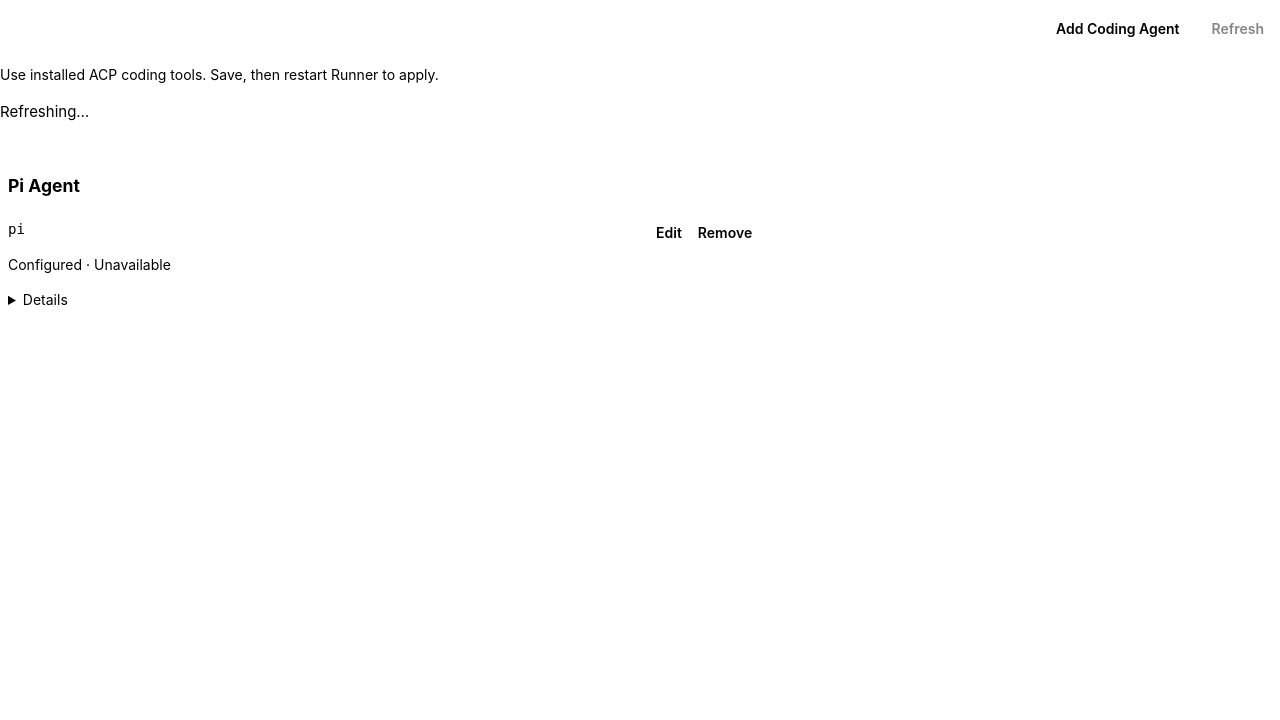
Test: Desktop Coding Agents › fails ownership conflicts without echoing backend secrets and never auto retries
The width and height of the screenshot is (1280, 720).
Click the button with aria-label "Edit Pi Agent".
click(669, 233)  # box 640,212 -> 698,254
(page scrolled)
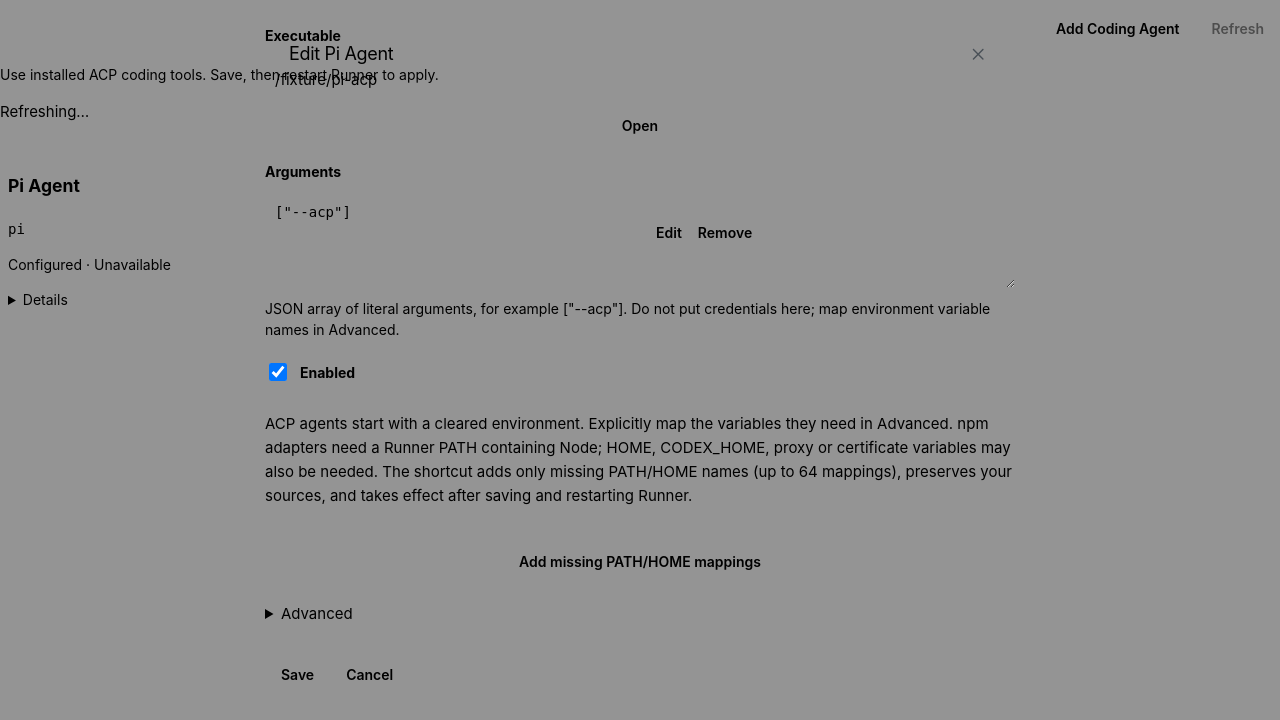
Click the button "Save".
click(298, 675)  # box 265,654 -> 330,696
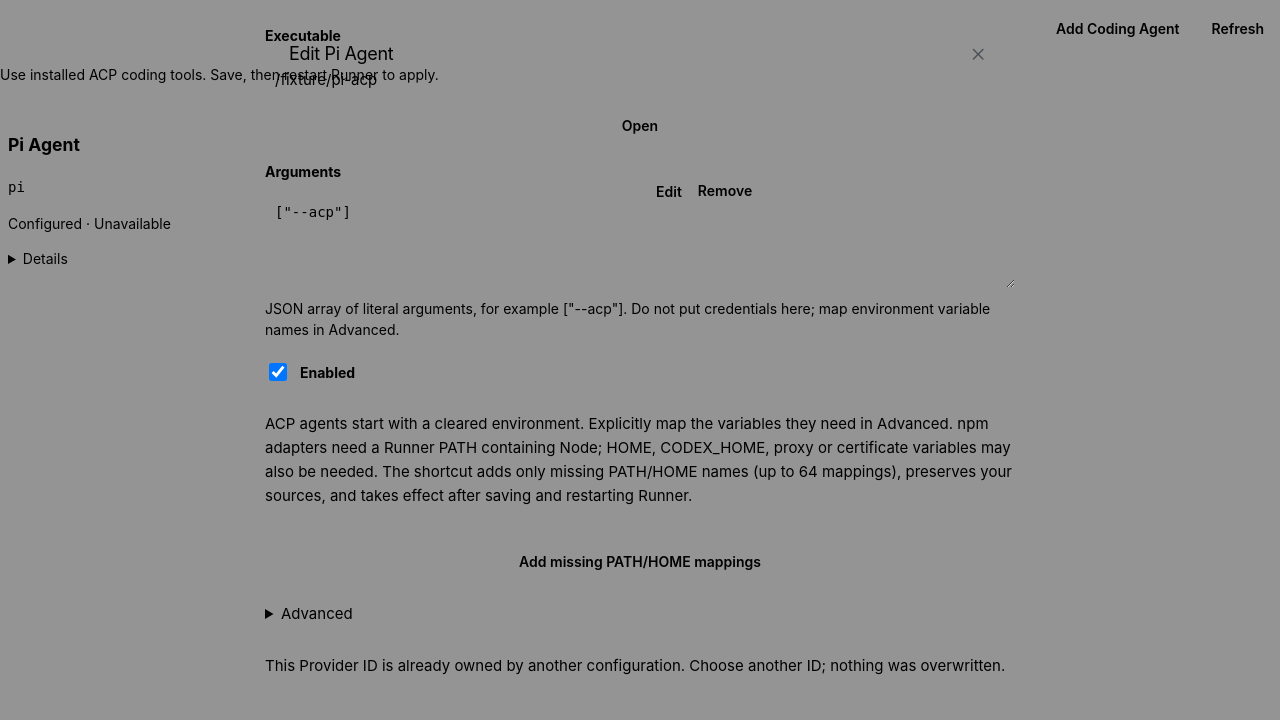
Check: the message shows "nothing was overwritten", box 265,656 -> 1005,675
